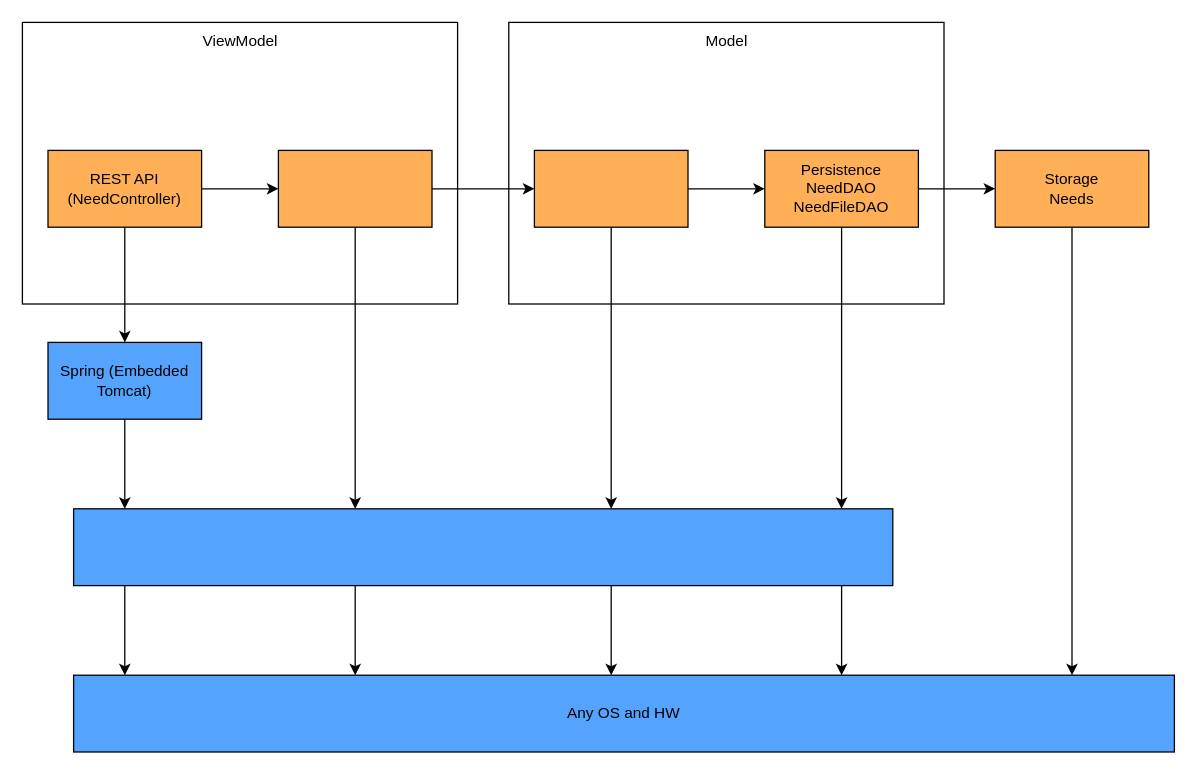
The diagram is 1197 pixels wide and 774 high, and some of its shapes have lost their labels. The shapes that lost their labels are listed below. From the top down, each one's centre as x and y in pixels, then its label:
At (x=354, y=188): "Service".
At (x=610, y=188): "Need".
At (x=482, y=547): "Java".
